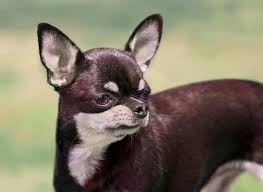chihuahua: (28, 5, 245, 192)
